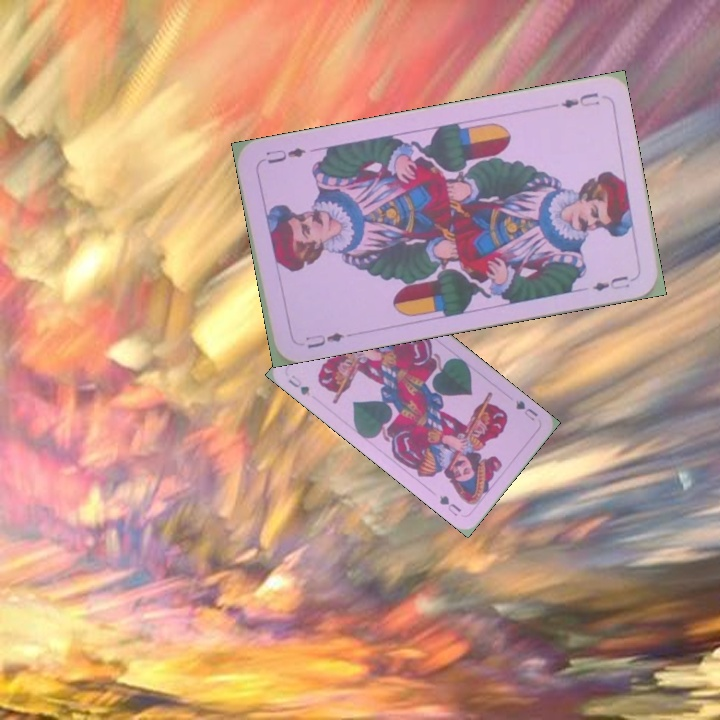EU: (302, 328, 352, 351), (557, 88, 602, 111)
GU: (511, 396, 541, 423), (285, 371, 313, 399)
